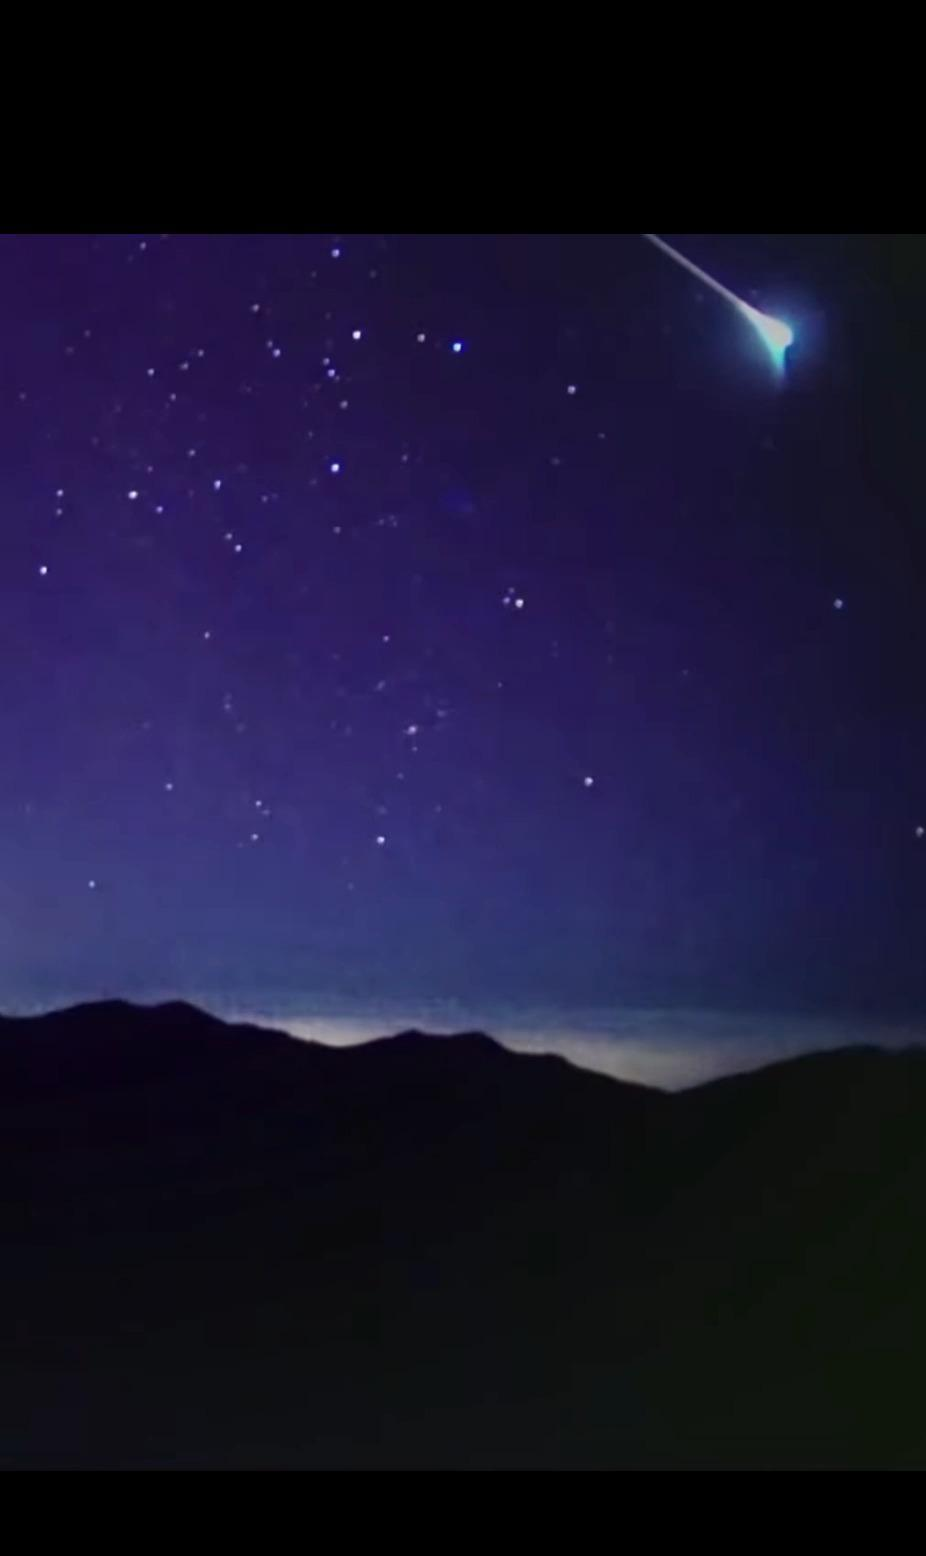meteorite: (614, 235, 820, 385)
